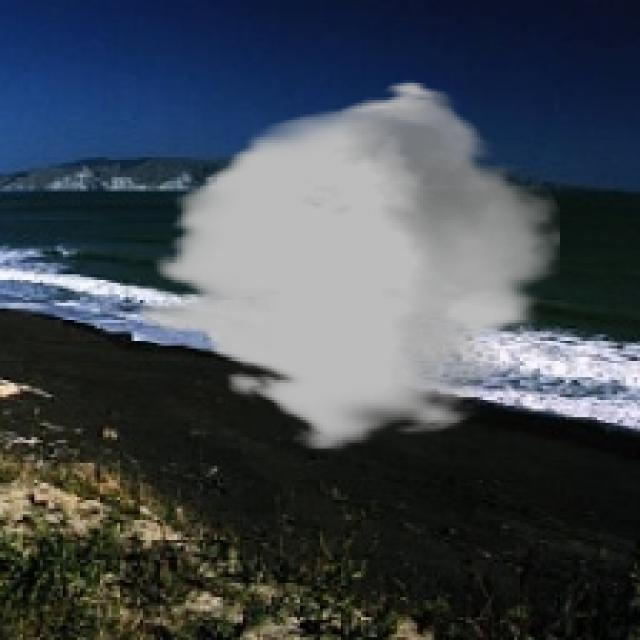smoke: (140, 80, 560, 451)
